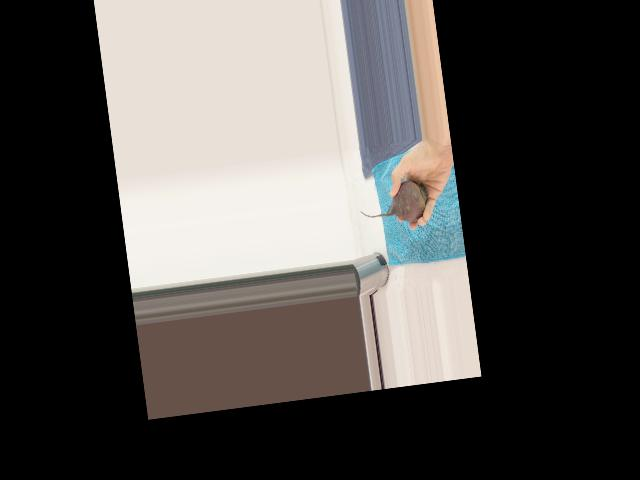beet: (357, 178, 432, 229)
